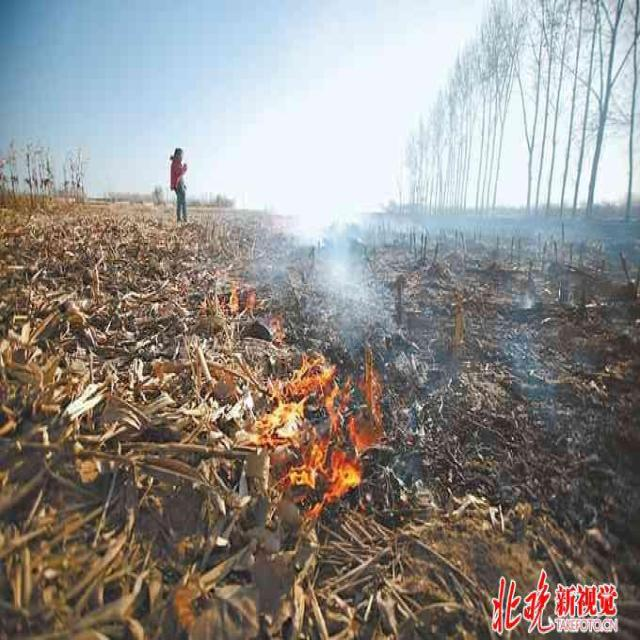fire: (208, 272, 383, 533), (165, 562, 212, 624)
other: (164, 133, 192, 214)
smoke: (316, 211, 354, 284)
